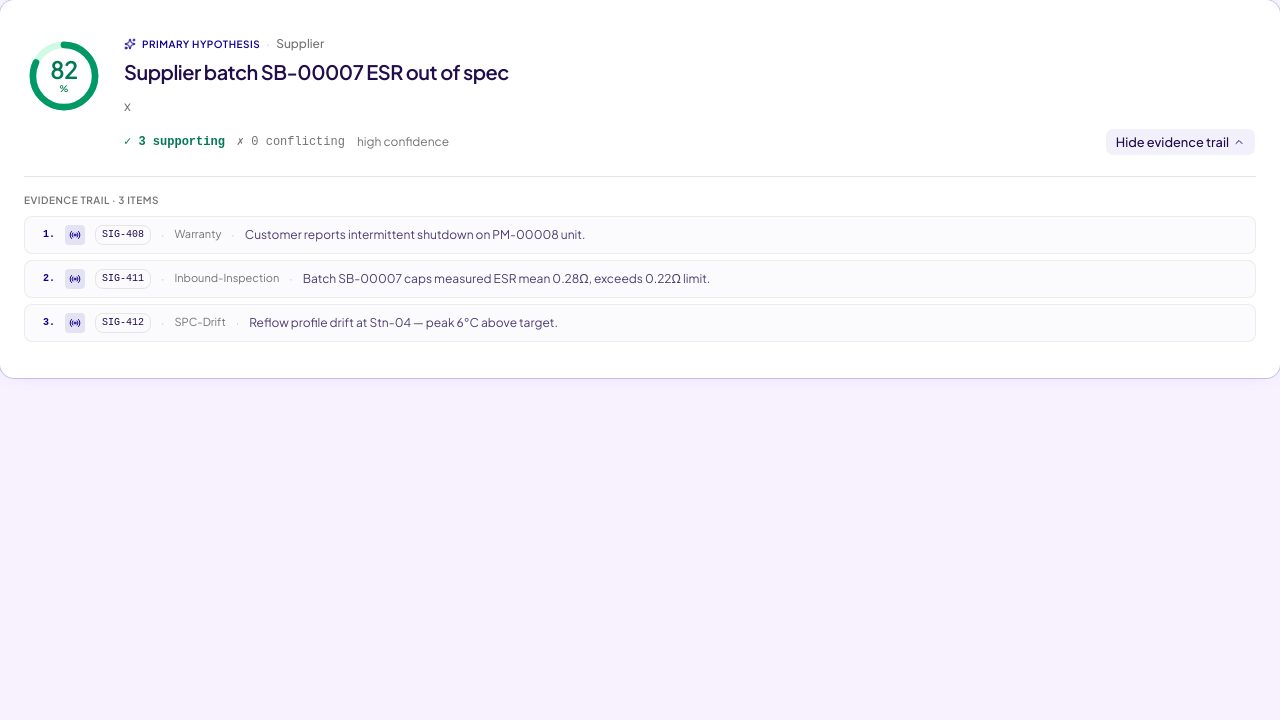
Test: PrimaryHypothesisCard › opens a signal drawer when clicking an evidence row
Click the text "Batch SB-00007 caps measured" at (506, 278), box top-left (303, 270), bottom-right (710, 286)
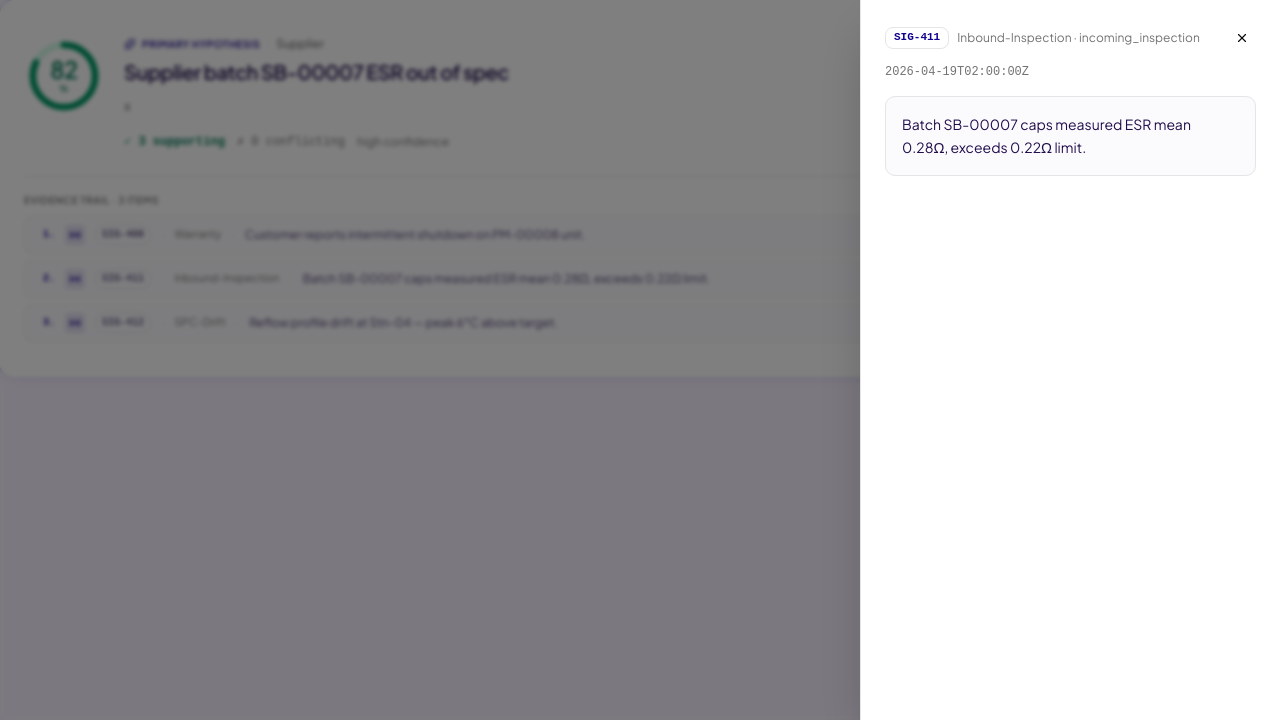
Check: the dialog named "Signal SIG-411" is shown
